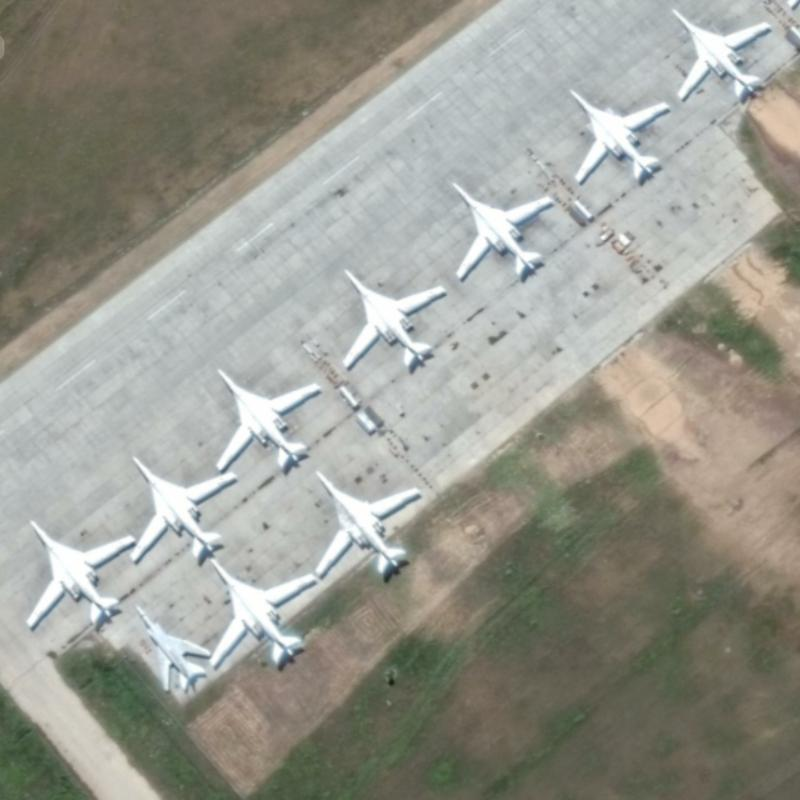A12: (128, 599, 212, 695)
A6: (21, 513, 138, 635), (204, 552, 318, 676), (309, 465, 424, 583), (212, 361, 326, 480), (123, 450, 235, 566), (338, 260, 448, 374), (447, 174, 554, 289), (564, 81, 672, 185), (667, 3, 776, 102)
